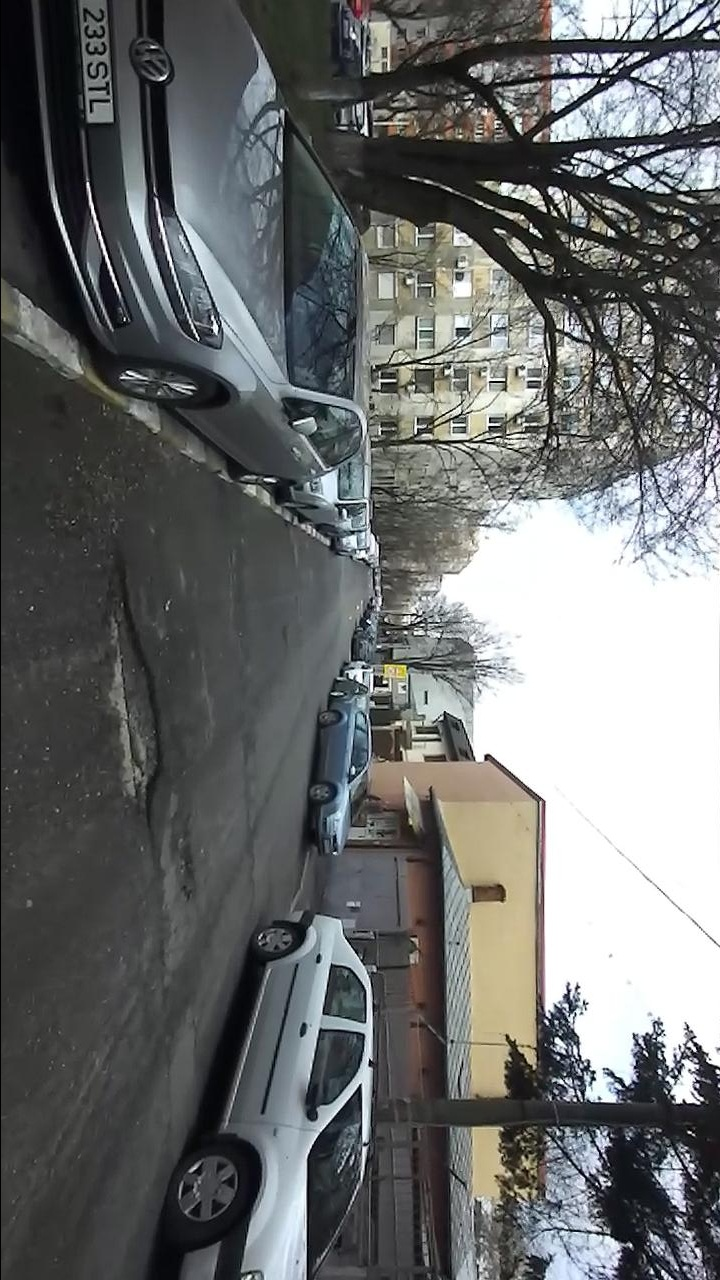pothole: (90, 548, 167, 827), (170, 803, 202, 904)
